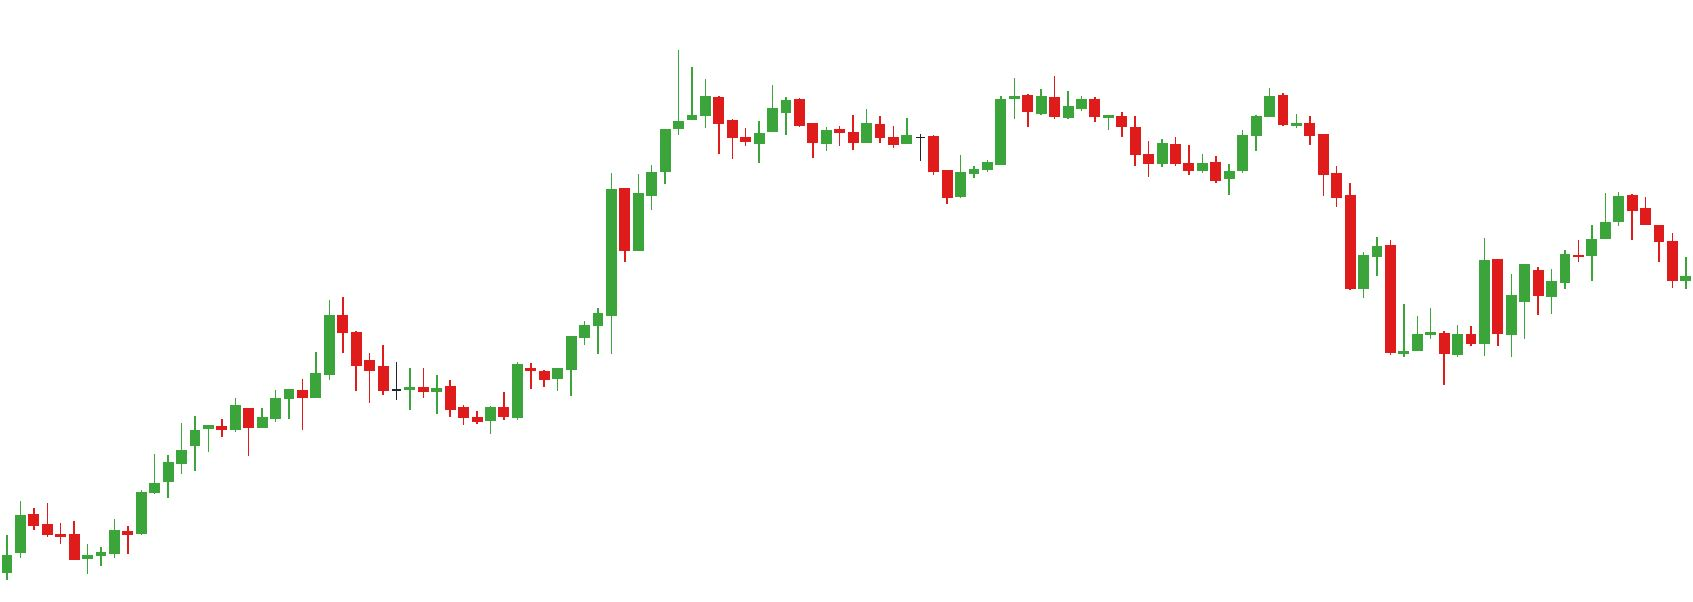sell: (1127, 84, 1291, 164)
